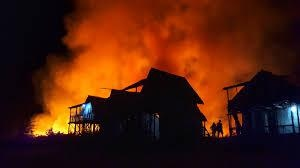fire: (31, 113, 76, 137)
